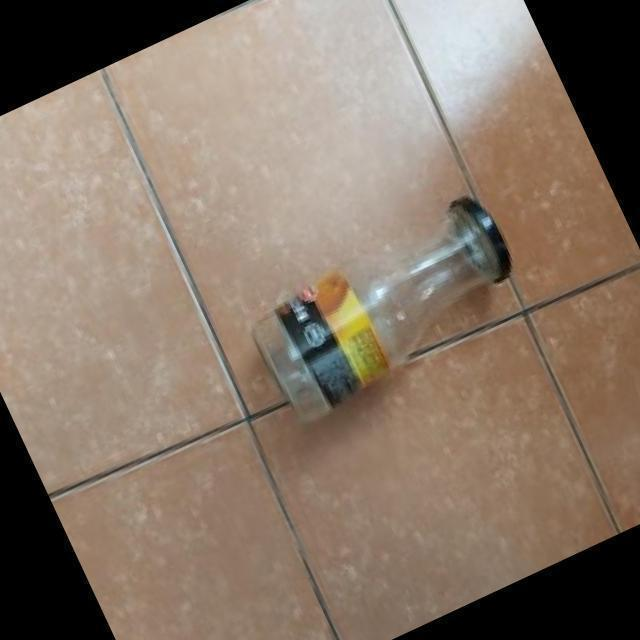BotolKaca: (249, 194, 512, 425)
